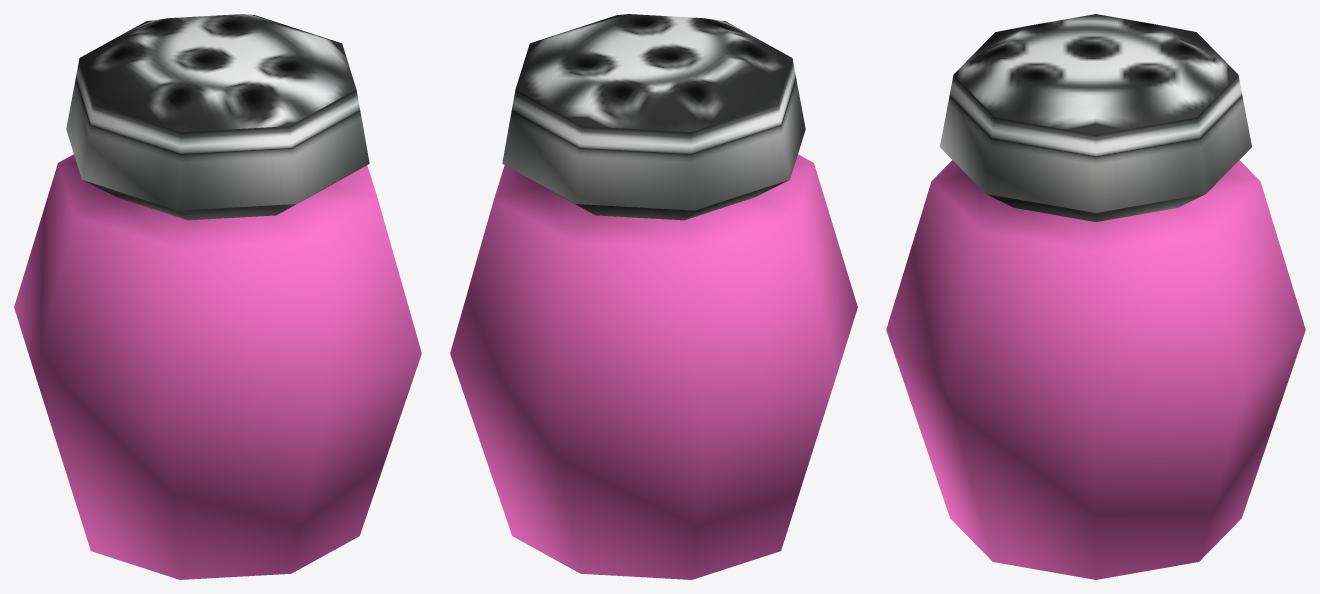
The model's file is Shaker_F.FBX.
The picture shows the model from 3 angles, left to right: view 1: azimuth 30°, elevation 25°; view 2: azimuth 150°, elevation 25°; view 3: azimuth 270°, elevation 25°; orthographic projection.
Visible parts, largest first — view 1: Shaker; view 2: Shaker; view 3: Shaker.
Part boxes in pixels (box(x1,y1,x2,y2)): Shaker: box(14, 14, 421, 579); Shaker: box(450, 14, 857, 579); Shaker: box(886, 14, 1305, 579).
Bounding box in the file's own units: 22.58 × 27.47 × 22.58.
